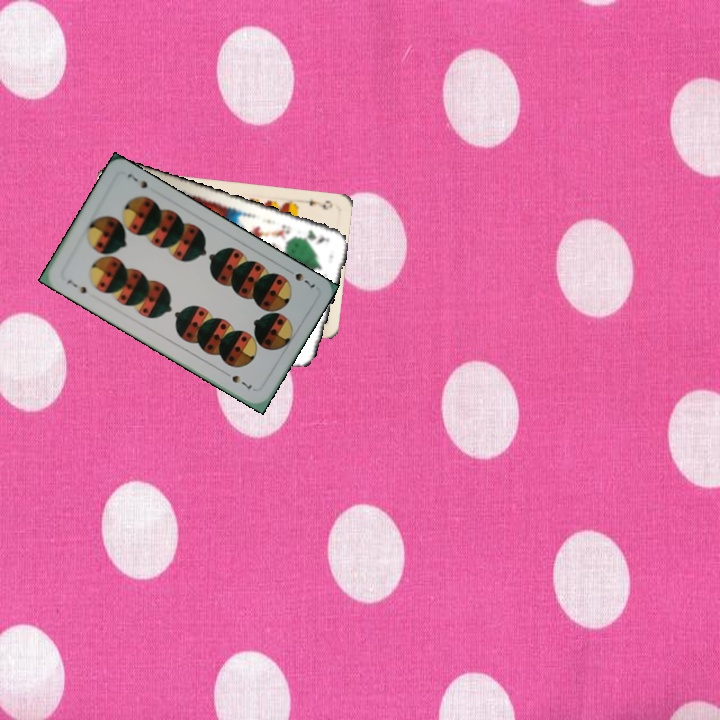E9: (305, 196, 335, 212)
GK: (294, 226, 332, 246)
S7: (282, 264, 318, 292), (63, 275, 89, 296)
